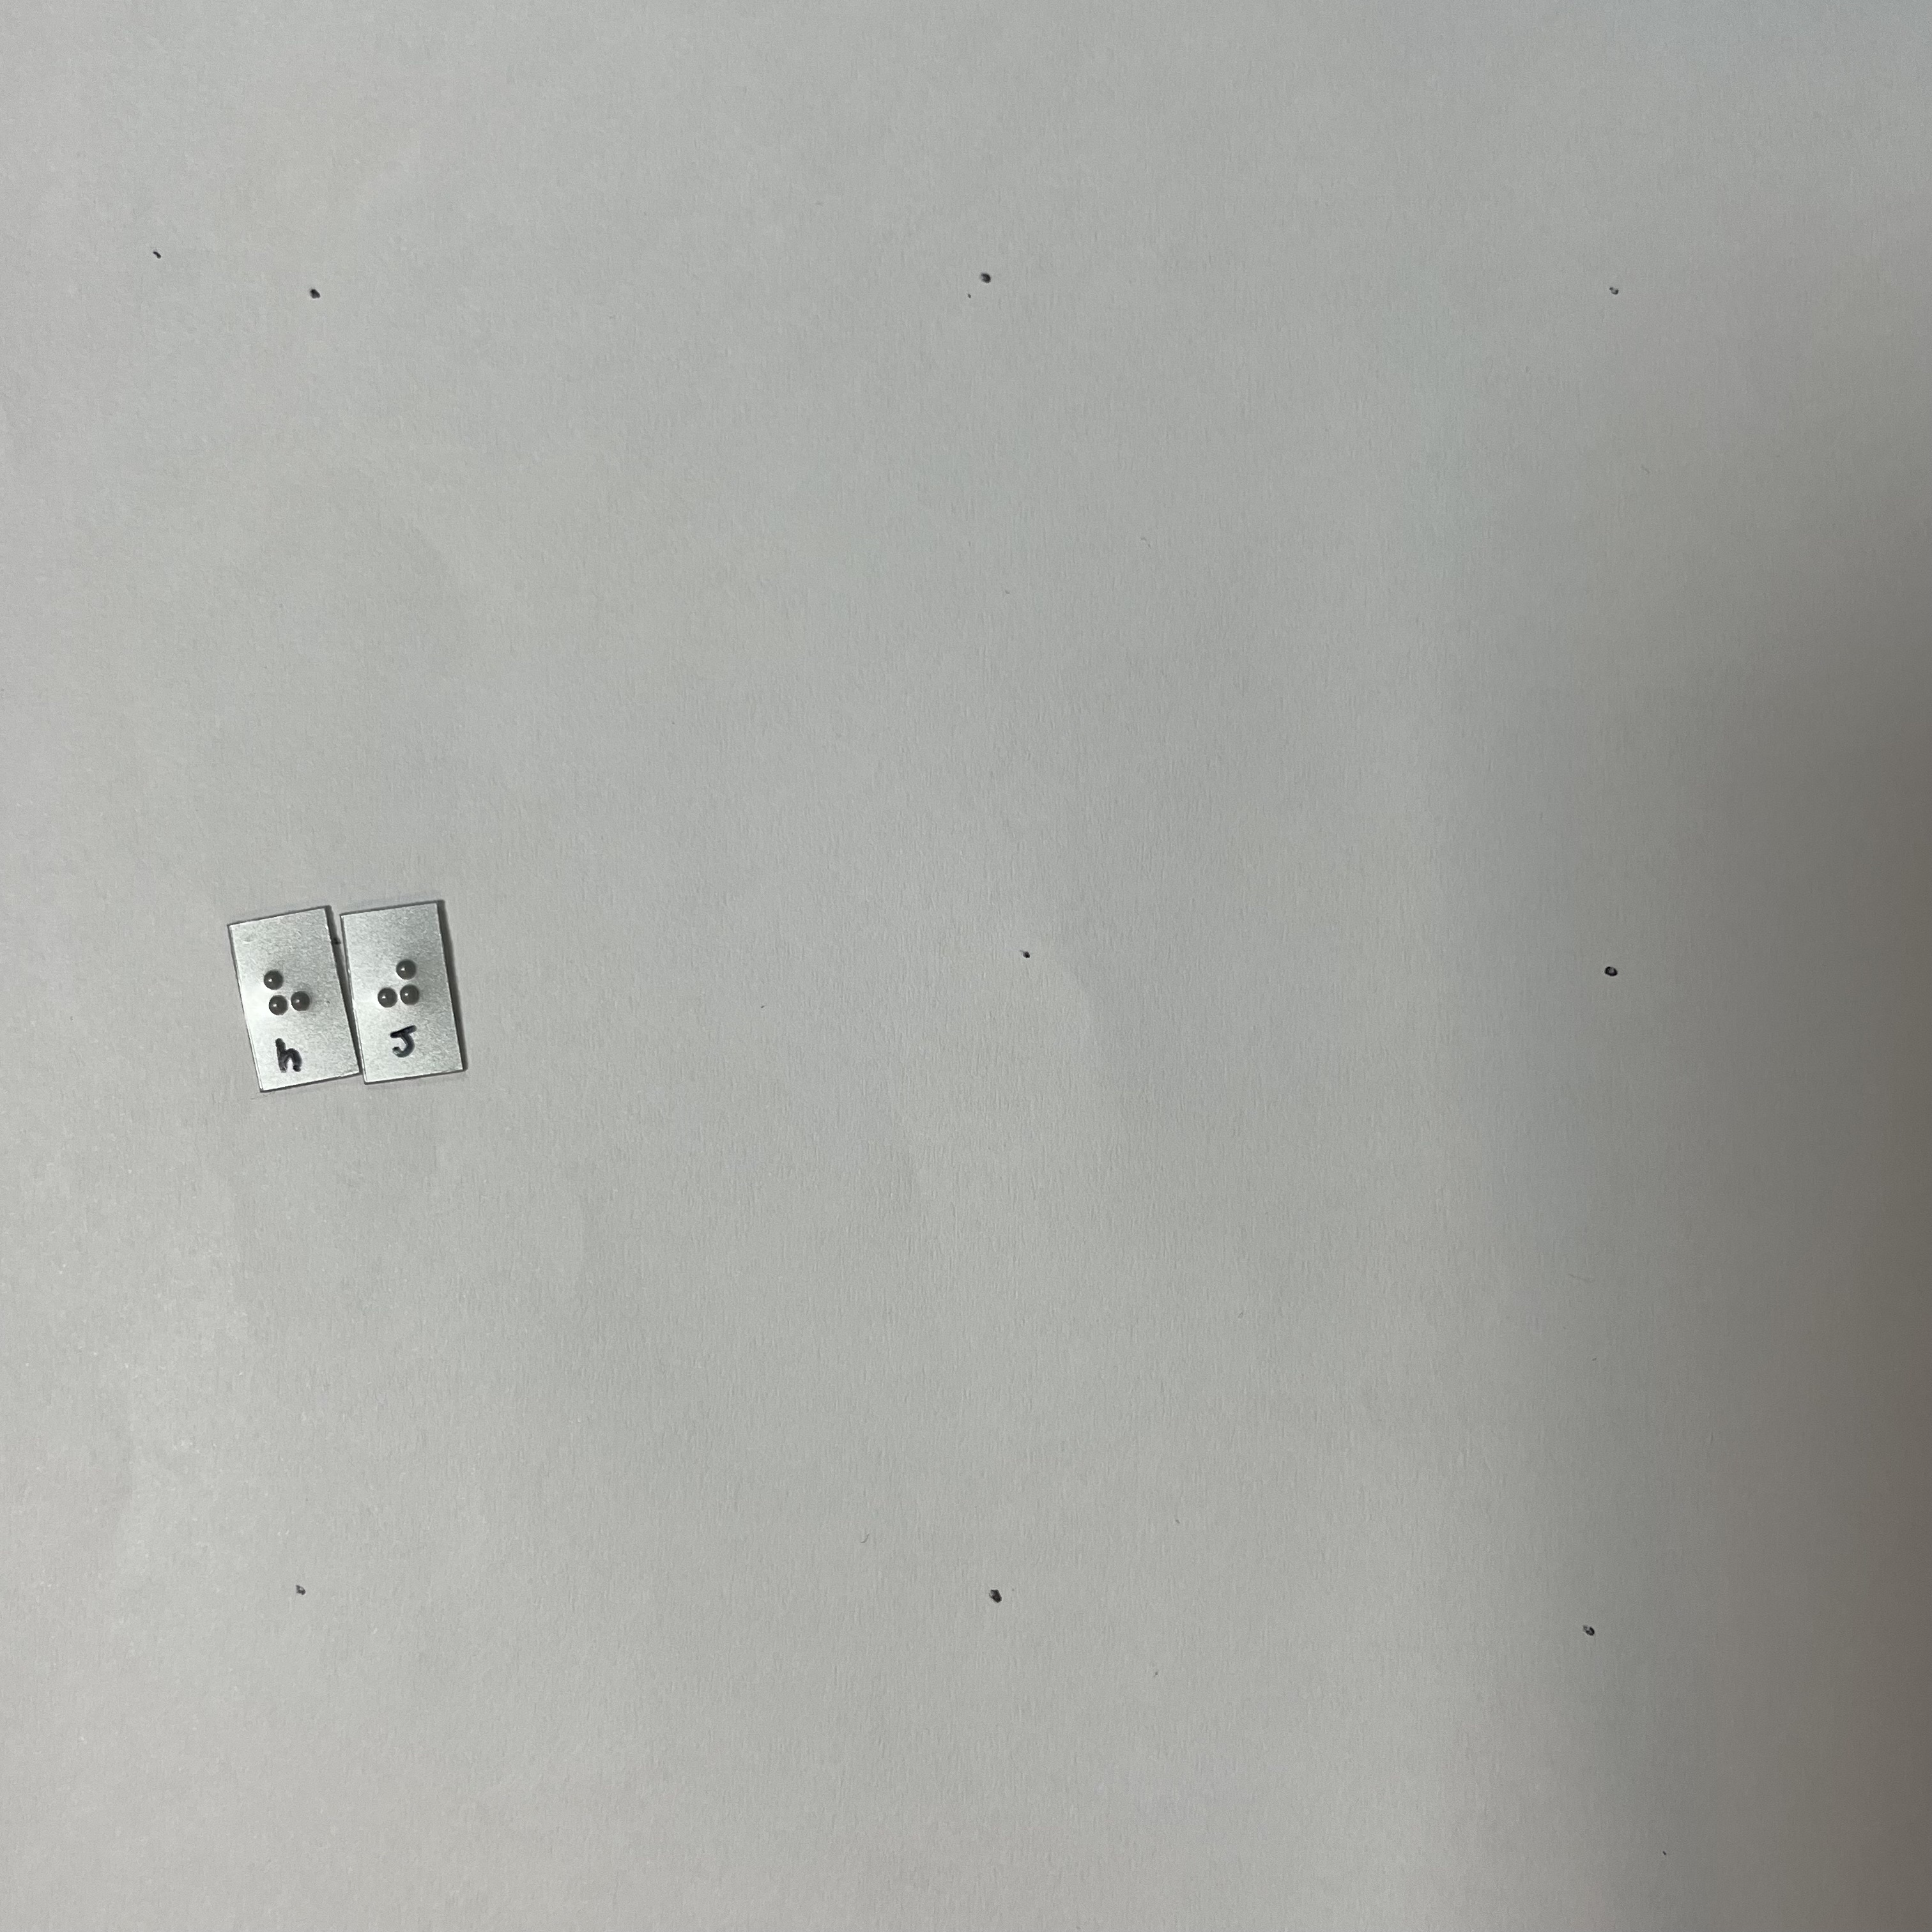h: (254, 956, 322, 1038)
j: (371, 949, 428, 1024)
